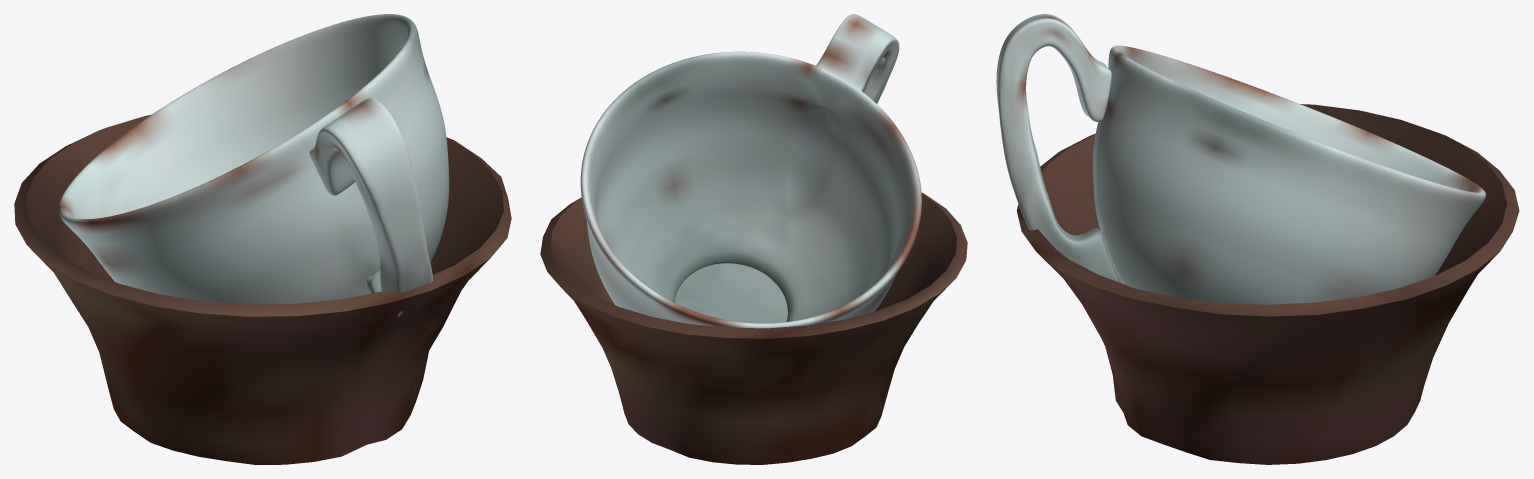
Rendered from ceramics.13acb5c7.glb.
The picture shows the model from 3 angles, left to right: view 1: azimuth 30°, elevation 25°; view 2: azimuth 150°, elevation 25°; view 3: azimuth 270°, elevation 25°; orthographic projection. The views are drawn at different scales.
Parts seen in each view (by area): view 1: Teacups; view 2: Teacups; view 3: Teacups.
Boxes of the visible parts, <box> form: Teacups: <box>14,14,511,464</box>; Teacups: <box>540,14,967,464</box>; Teacups: <box>996,14,1519,464</box>.
Bounding box in the file's own units: 0.2386 × 0.2004 × 0.2493.
